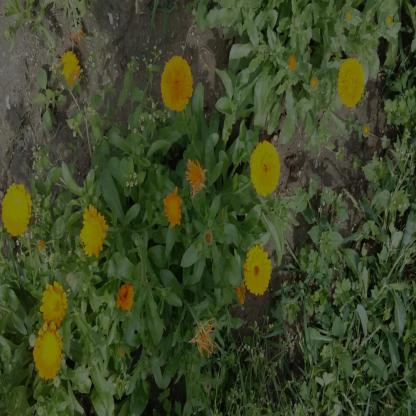marigold: (162, 54, 190, 112), (251, 142, 278, 194), (35, 326, 61, 380), (3, 184, 29, 237), (81, 206, 108, 256), (339, 56, 364, 106), (245, 247, 269, 296), (41, 286, 67, 325), (184, 157, 209, 192), (164, 188, 183, 225), (62, 52, 80, 85), (114, 282, 134, 310)
